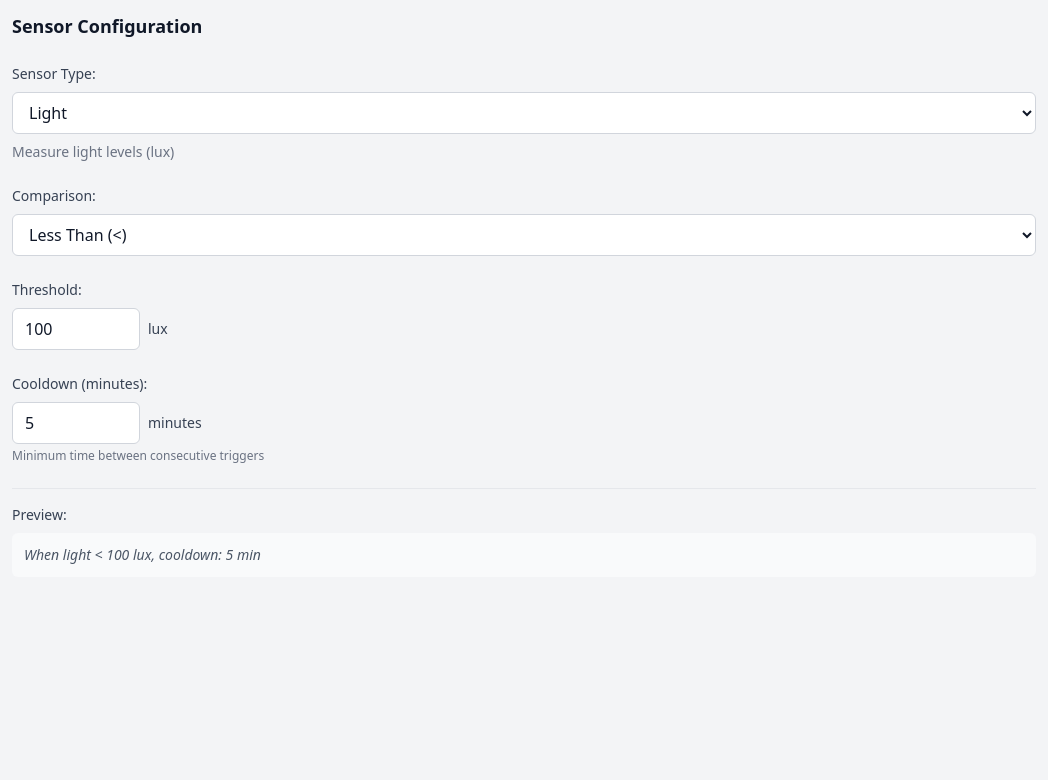
Test: SensorTriggerForm › Threshold Input (react-hook-form + Zod) › does not propagate negative threshold to parent
Replace the text in the number field labelled "Threshold:" with "-10". click: (76,329)
box: [12,308,140,350]
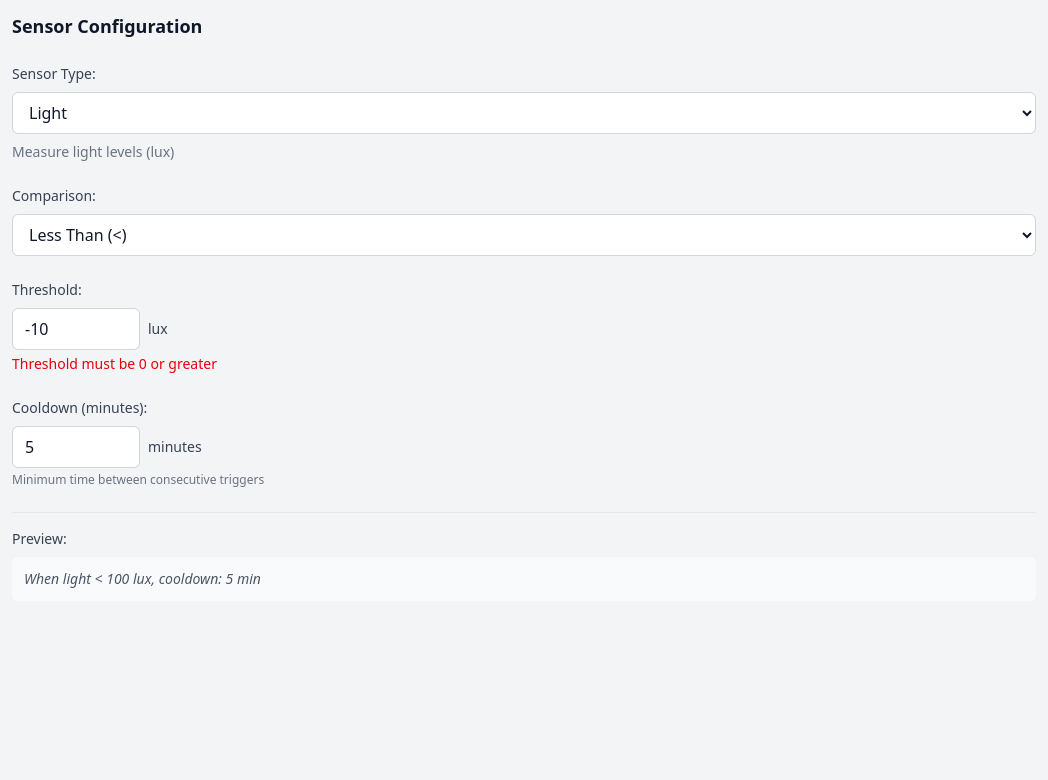
Check: the message "Threshold must be 0 or greater" is shown, box [12,354,217,373]
